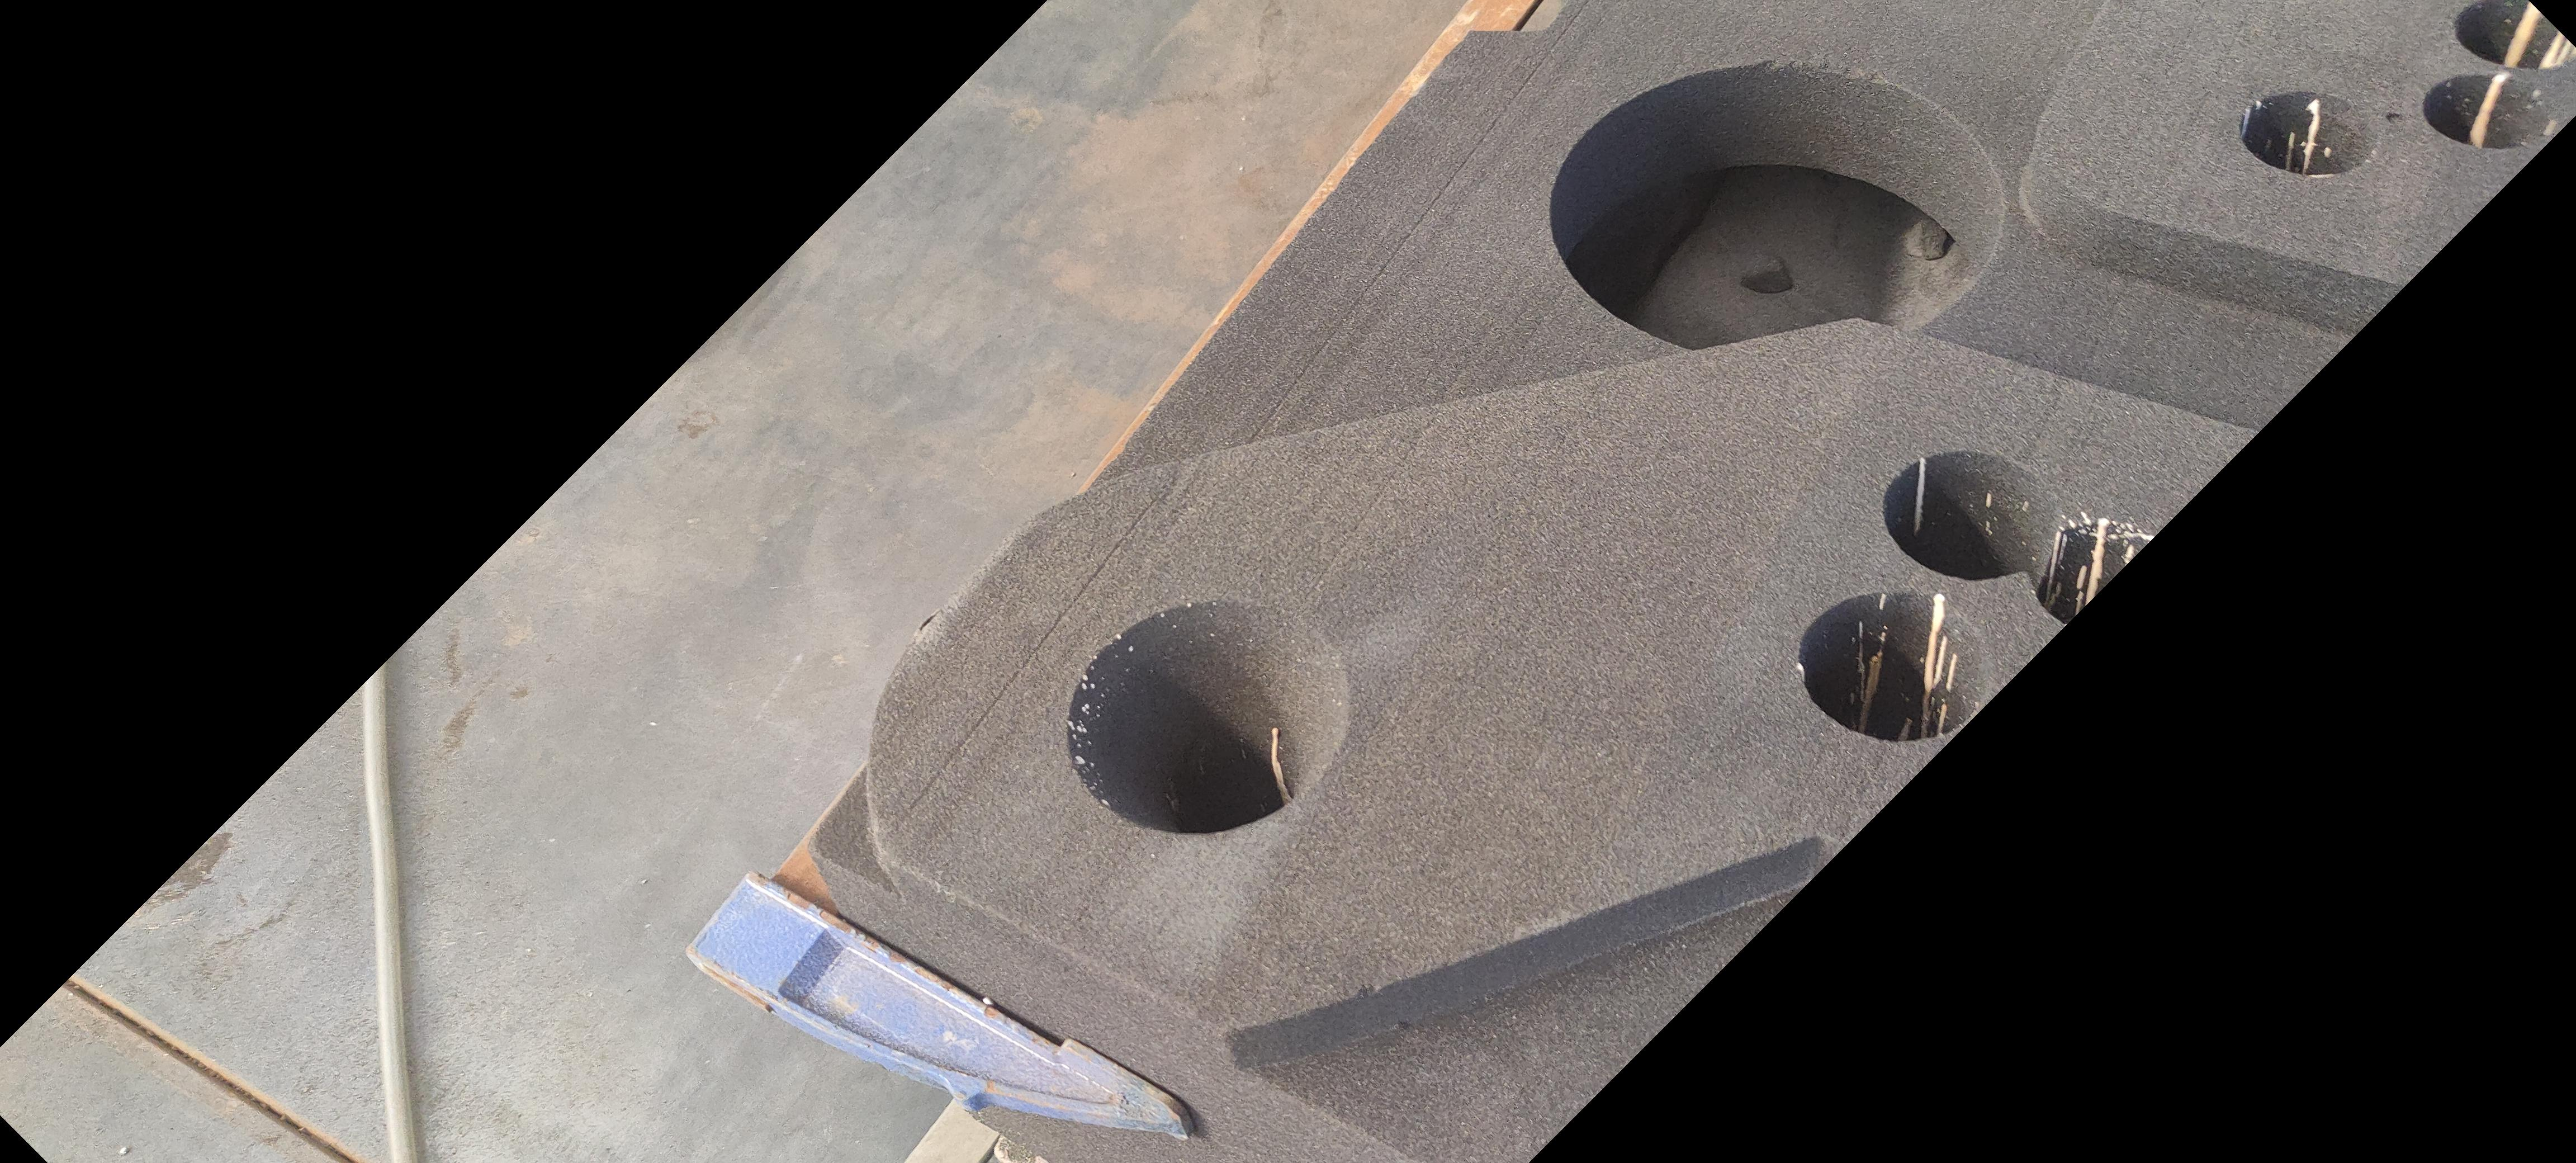pouring hole: (1063, 598, 1349, 836)
